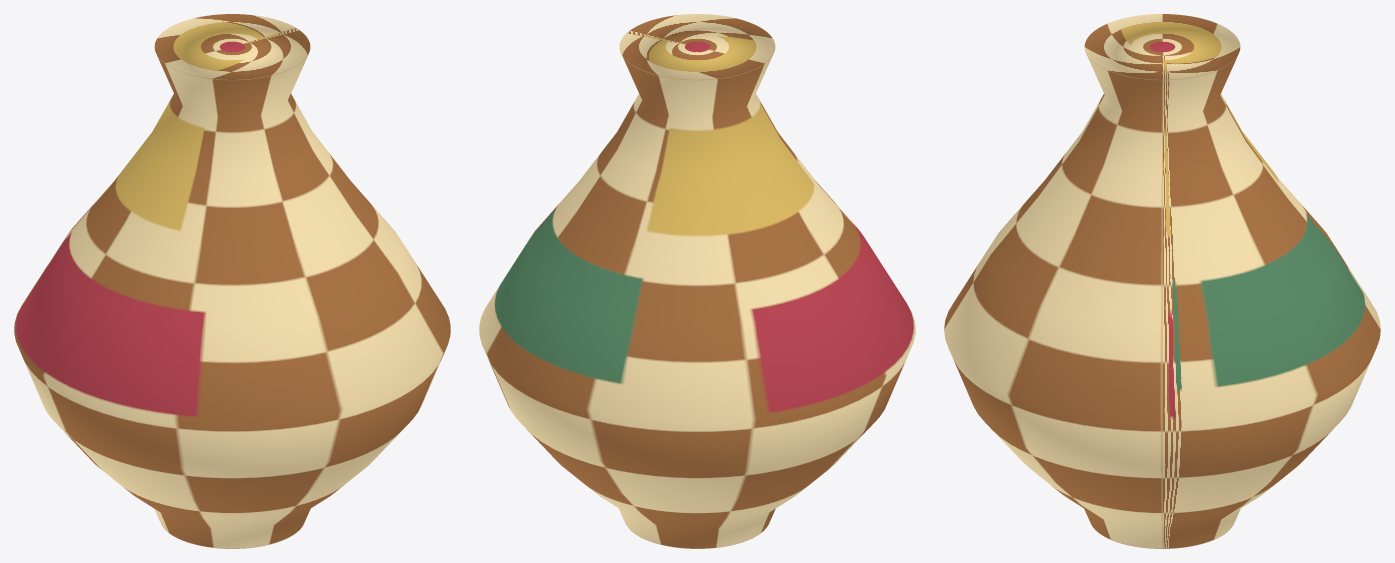
File: museum-vase-detail.glb
3 views of the same model, side by side, from view 1: azimuth 30°, elevation 25°; view 2: azimuth 150°, elevation 25°; view 3: azimuth 270°, elevation 25° (orthographic).
Bounding box in the file's own units: 0.84 × 1 × 0.84.
Materials: 1 (1 with a texture image).
